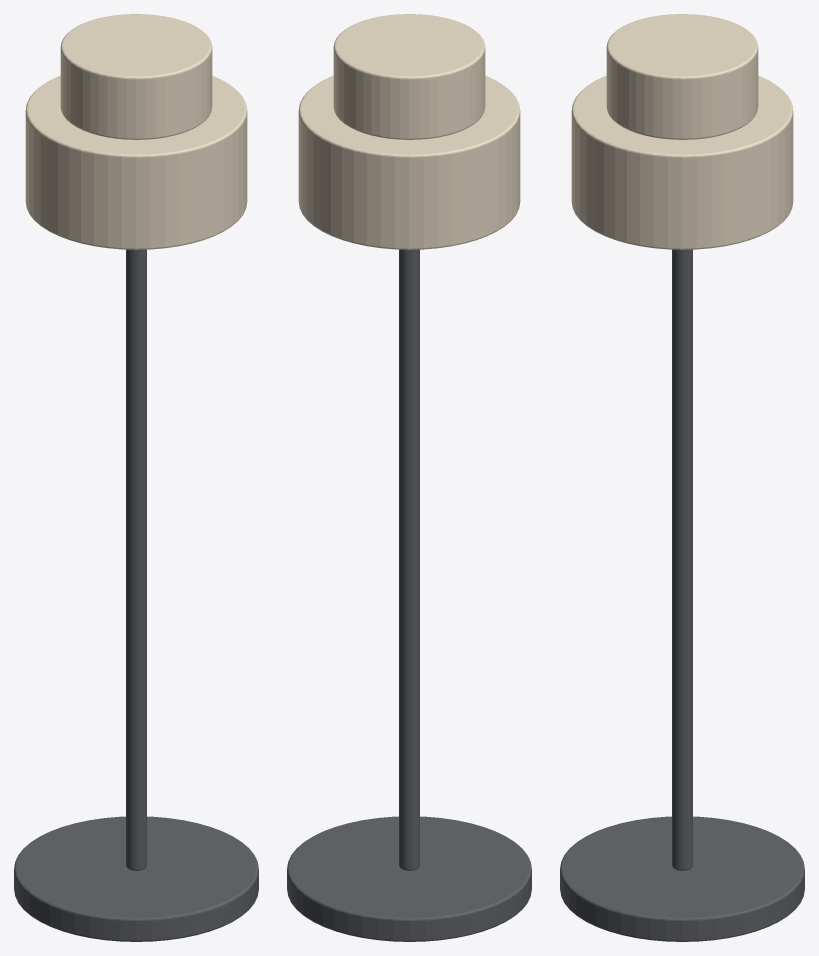
Rendered from minimal-floor-lamp-01.glb.
3 renders of one model, left to right at view 1: azimuth 30°, elevation 25°; view 2: azimuth 150°, elevation 25°; view 3: azimuth 270°, elevation 25°, orthographic.
Parts seen in each view (by area): view 1: minimal-floor-lamp-01; view 2: minimal-floor-lamp-01; view 3: minimal-floor-lamp-01.
Part boxes in pixels (left/top/right/bottom): minimal-floor-lamp-01: left=14, top=14, right=258, bottom=941; minimal-floor-lamp-01: left=287, top=14, right=531, bottom=941; minimal-floor-lamp-01: left=560, top=14, right=804, bottom=941.
Size of the model in its own units: 0.42 by 1.6 by 0.42.
